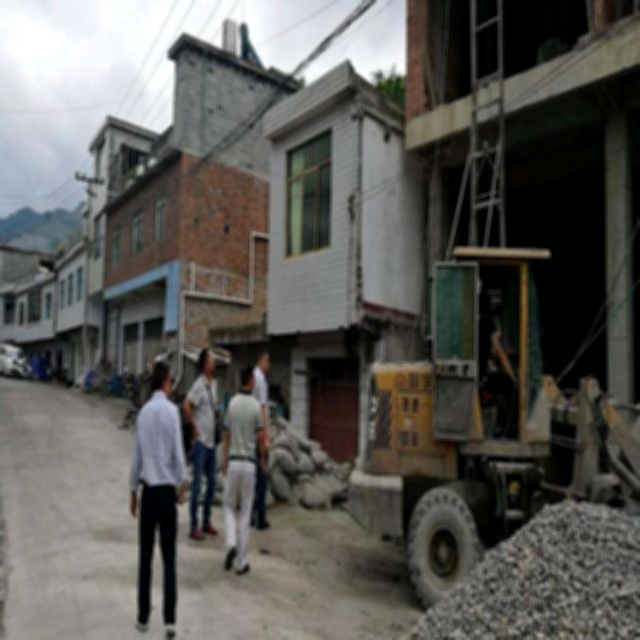Sin_Chaleco: (133, 390, 182, 490), (225, 392, 263, 468)
